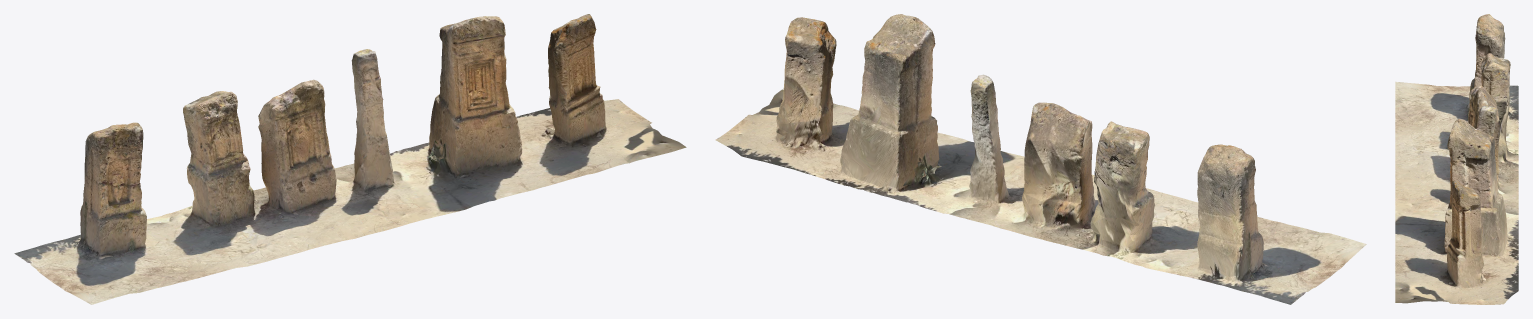
Rendered from punic-stelae-row-tophet-of-salammbo-ca.glb.
3 views of the same model, side by side, from view 1: azimuth 30°, elevation 25°; view 2: azimuth 150°, elevation 25°; view 3: azimuth 270°, elevation 25° (orthographic). The views are drawn at different scales.
Visible parts, largest first — view 1: punicStelae_target_PunicStelae_MAT_0; view 2: punicStelae_target_PunicStelae_MAT_0; view 3: punicStelae_target_PunicStelae_MAT_0.
Boxes of the visible parts, bbox=[...] form: punicStelae_target_PunicStelae_MAT_0: bbox=[14, 14, 686, 304]; punicStelae_target_PunicStelae_MAT_0: bbox=[715, 14, 1366, 304]; punicStelae_target_PunicStelae_MAT_0: bbox=[1395, 14, 1518, 304].
Bounding box in the file's own units: 4.83 × 1.26 × 1.09.
1 material, 1 textured.
